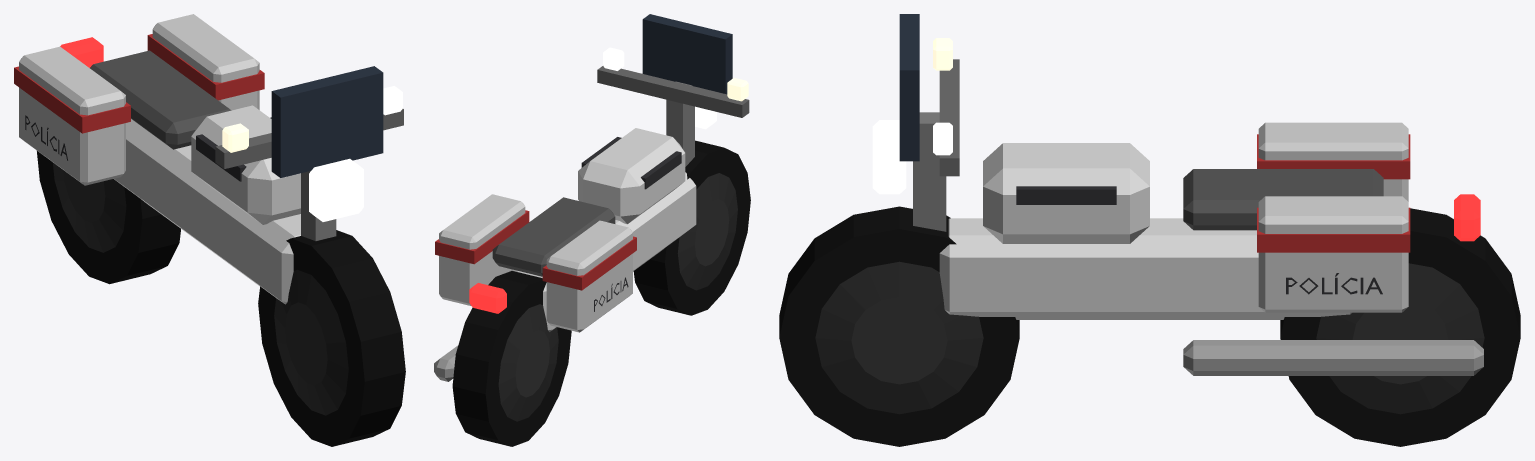
Rendered from police_moto.glb.
3 renders of one model, left to right at view 1: azimuth 30°, elevation 25°; view 2: azimuth 150°, elevation 25°; view 3: azimuth 270°, elevation 25°, orthographic. The views are drawn at different scales.
Visible parts, largest first — view 1: Body, WheelF, WheelR; view 2: Body, WheelR, WheelF; view 3: Body, WheelF, WheelR.
Part boxes in pixels (x1=…): Body: x1=14, y1=14, x2=403, y2=304; WheelF: x1=258, y1=230, x2=405, y2=446; WheelR: x1=37, y1=151, x2=180, y2=284; Body: x1=434, y1=14, x2=749, y2=381; WheelR: x1=452, y1=271, x2=571, y2=446; WheelF: x1=633, y1=140, x2=750, y2=315; Body: x1=872, y1=14, x2=1483, y2=375; WheelF: x1=779, y1=206, x2=1019, y2=446; WheelR: x1=1280, y1=208, x2=1520, y2=446.
Size of the model in its own units: 0.724 by 1.3 by 2.22.
